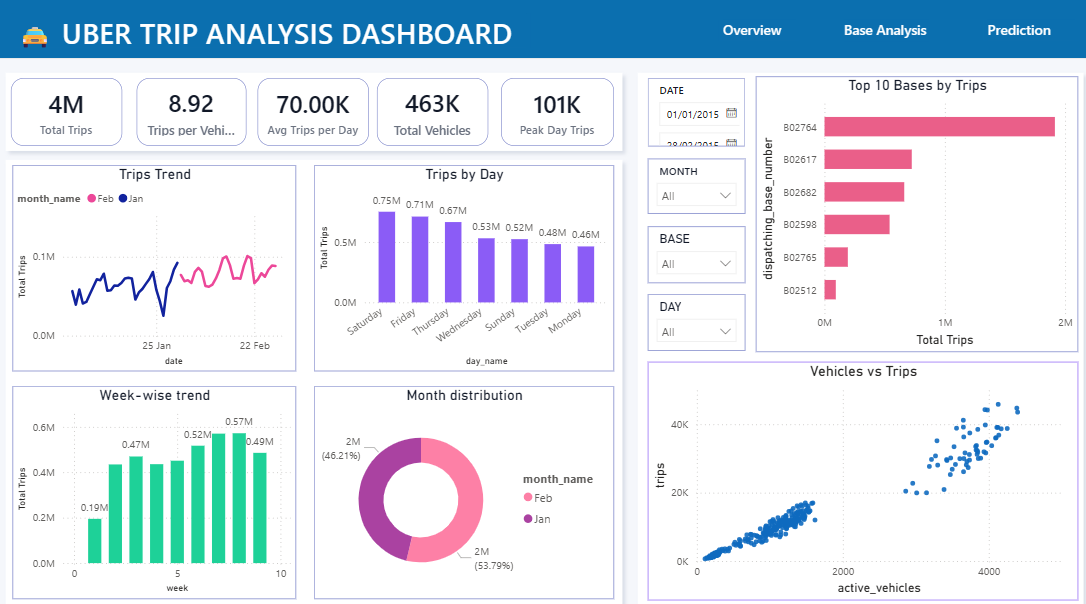

What the dashboard file says about the page in this screenshot:
{"tool":"powerbi","page":{"name":"Page 1","canvas":[1280,720],"ordinal":0},"visuals":[{"type":"shape","box":[739.6,77.4,539.6,643.4],"z":0},{"type":"lineChart","title":"Trips Trend","fields":{"Category":["Uber.date"],"Y":["Uber.Total Trips"],"Series":["Uber.month_name"]},"box":[17,194.3,332.1,241.5],"z":0,"group":"g1"},{"type":"clusteredColumnChart","title":"Trips by Day","fields":{"Category":["Uber.day_name"],"Y":["Uber.Total Trips"]},"box":[369.8,194.3,350.9,241.5],"z":1000,"group":"g1"},{"type":"lineChart","title":"Trips Forecast (Next 7 Days)","fields":{"Category":["Uber.date"],"Y":["Uber.Total Trips"]},"box":[15.1,201.9,705.7,501.9],"z":1000},{"type":"shape","box":[0,179.2,739.6,541.5],"z":2000},{"type":"clusteredColumnChart","title":"Week-wise trend","fields":{"Category":["Uber.week"],"Y":["Uber.Total Trips"]},"box":[17,452.8,332.1,249.1],"z":2000,"group":"g1"},{"type":"shape","box":[0,77.4,739.6,109.4],"z":3000},{"type":"donutChart","title":"Month distribution","fields":{"Category":["Uber.month_name"],"Y":["Uber.Total Trips"]},"box":[369.8,452.8,350.9,249.1],"z":3000,"group":"g1"},{"type":"clusteredBarChart","title":"Top 10 Bases by Trips","fields":{"Category":["Uber.dispatching_base_number"],"Y":["Uber.Total Trips"]},"box":[886.8,89.7,377.4,322.6],"z":4000,"group":"g1"},{"type":"card","title":"Total Trips","fields":{"Values":["Uber.Total Trips"]},"box":[15.1,92.5,130.2,79.2],"z":4000},{"type":"card","title":"Trips per Vehicle","fields":{"Values":["Uber.Trips per Vehicle"]},"box":[162.3,92.5,128.3,79.2],"z":5000},{"type":"scatterChart","title":"Vehicles vs Trips","fields":{"X":["Uber.active_vehicles"],"Y":["Uber.trips"]},"box":[760.4,424.2,503.8,279.2],"z":5000,"group":"g1"},{"type":"card","fields":{"Values":["Uber.Peak Day Trips"]},"box":[588.7,92.5,132.1,79.2],"z":6000},{"type":"card","title":"Avg Trips per Day","fields":{"Values":["Uber.Avg Trips per Day"]},"box":[303.8,92.5,130.2,79.2],"z":7000},{"type":"card","fields":{"Values":["Uber.Total Vehicles"]},"box":[443.4,92.5,130.2,79.2],"z":8000},{"type":"shape","box":[0,0,1280,70],"z":9000},{"type":"textbox","title":"🚖 UBER TRIP ANALYSIS DASHBOARD","box":[15.1,17,607.5,39.6],"z":10000},{"type":"textbox","title":"Overview ","box":[842.8,24.4,94,24.4],"z":11000},{"type":"textbox","title":"Base Analysis","box":[984.9,24.5,109.4,24.5],"z":12000},{"type":"textbox","title":"Prediction","box":[1152.7,24.4,111.4,24.4],"z":13000},{"type":"slicer","fields":{"Values":["Uber.date"]},"box":[760.4,92.5,113.2,80],"z":14000},{"type":"slicer","fields":{"Values":["Uber.month"]},"box":[760.1,185.9,114.1,64.4],"z":15000},{"type":"slicer","fields":{"Values":["Uber.day"]},"box":[760.1,346,114.1,66.3],"z":16000},{"type":"slicer","fields":{"Values":["Uber.dispatching_base_number"]},"box":[760.1,266.9,114.1,66.3],"z":17000},{"type":"group","id":"g1","title":"OVERVIEW_GROUP","box":[17,89.7,1247.2,613.8],"z":18000},{"type":"actionButton","box":[837.7,0,98.1,69.8],"z":20000},{"type":"actionButton","box":[977.4,0,122.6,69.8],"z":21000},{"type":"actionButton","box":[1139.6,0,100,69.8],"z":23000}]}

Visuals, with their boxes in screenshot pixels (x1, y1, x2, y2), scaled from the page's 1280x720 canvas onto the 1086x604 screenshot:
shape: x1=628 y1=65 x2=1085 y2=603
"Trips Trend" lineChart: x1=14 y1=163 x2=296 y2=366
"Trips by Day" clusteredColumnChart: x1=314 y1=163 x2=611 y2=366
"Trips Forecast (Next 7 Days)" lineChart: x1=13 y1=169 x2=612 y2=590
shape: x1=0 y1=150 x2=628 y2=603
"Week-wise trend" clusteredColumnChart: x1=14 y1=380 x2=296 y2=589
shape: x1=0 y1=65 x2=628 y2=157
"Month distribution" donutChart: x1=314 y1=380 x2=611 y2=589
"Top 10 Bases by Trips" clusteredBarChart: x1=752 y1=75 x2=1073 y2=346
"Total Trips" card: x1=13 y1=78 x2=123 y2=144
"Trips per Vehicle" card: x1=138 y1=78 x2=247 y2=144
"Vehicles vs Trips" scatterChart: x1=645 y1=356 x2=1073 y2=590
card - Uber.Peak Day Trips: x1=499 y1=78 x2=612 y2=144
"Avg Trips per Day" card: x1=258 y1=78 x2=368 y2=144
card - Uber.Total Vehicles: x1=376 y1=78 x2=487 y2=144
shape: x1=0 y1=0 x2=1085 y2=59
"🚖 UBER TRIP ANALYSIS DASHBOARD" textbox: x1=13 y1=14 x2=528 y2=47
"Overview " textbox: x1=715 y1=20 x2=795 y2=41
"Base Analysis" textbox: x1=836 y1=21 x2=928 y2=41
"Prediction" textbox: x1=978 y1=20 x2=1073 y2=41
slicer - Uber.date: x1=645 y1=78 x2=741 y2=145
slicer - Uber.month: x1=645 y1=156 x2=742 y2=210
slicer - Uber.day: x1=645 y1=290 x2=742 y2=346
slicer - Uber.dispatching_base_number: x1=645 y1=224 x2=742 y2=280
"OVERVIEW_GROUP" group: x1=14 y1=75 x2=1073 y2=590
actionButton: x1=711 y1=0 x2=794 y2=59
actionButton: x1=829 y1=0 x2=933 y2=59
actionButton: x1=967 y1=0 x2=1052 y2=59
